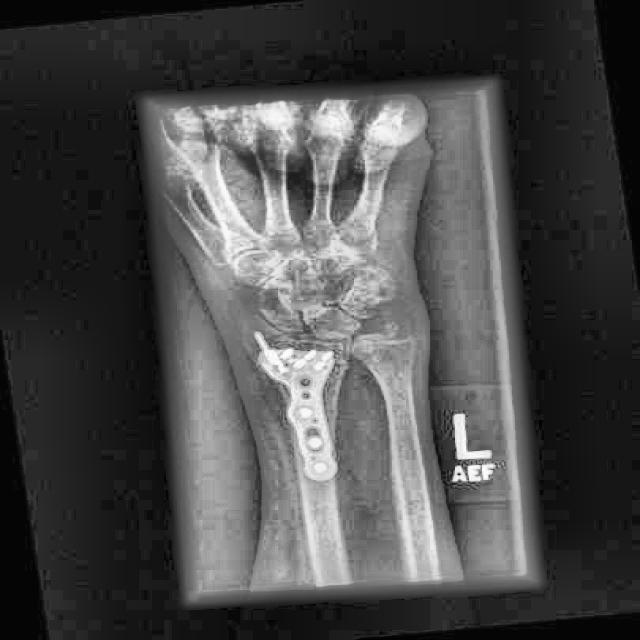wrist positive: (236, 350, 357, 405), (351, 340, 426, 388)
